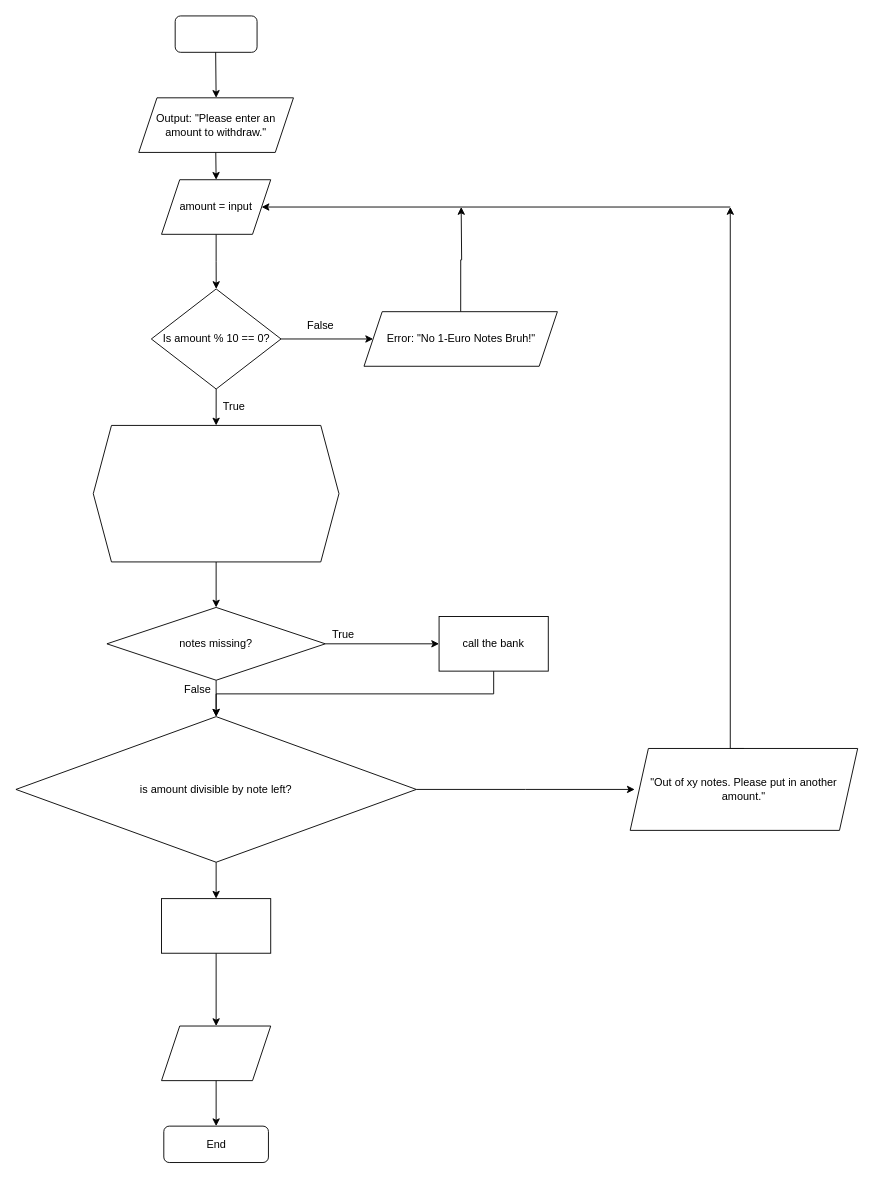
The diagram is 874 pixels wide and 1178 high, and some of its shapes have lost their labels. Here are the shapes that lost their labels. From the top down, the centre of each, then its label:
At [215,33]: "Start".
At [215,493]: "loop through available notes".
At [216,925]: "calculating least amount of notes".
At [216,1053]: "Output amount in notes".
